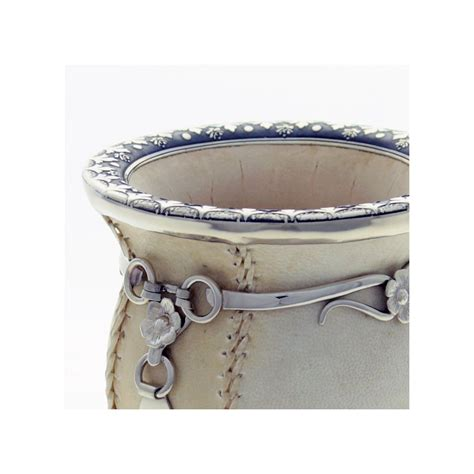cuero: (99, 205, 409, 408)
